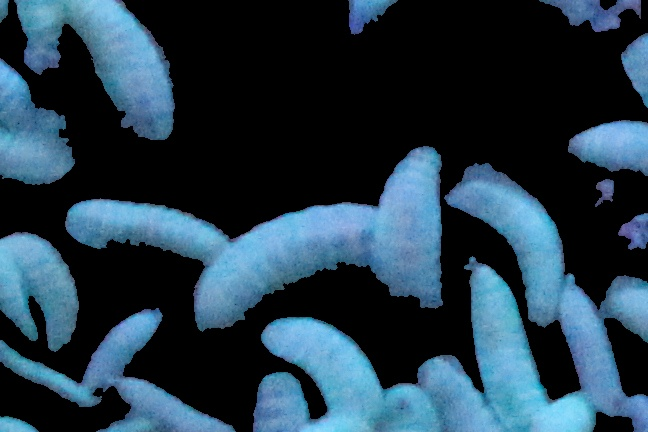larvae: (192, 200, 379, 332), (445, 180, 563, 323), (64, 1, 176, 140), (465, 259, 552, 432), (262, 316, 388, 432), (67, 198, 236, 265), (379, 148, 443, 310), (559, 276, 623, 411), (12, 232, 80, 349), (417, 355, 502, 432), (81, 308, 158, 392), (117, 379, 235, 432), (568, 121, 648, 175), (1, 128, 75, 186), (1, 231, 34, 345), (251, 373, 313, 432), (382, 378, 437, 432), (1, 58, 39, 127), (8, 1, 64, 46)
